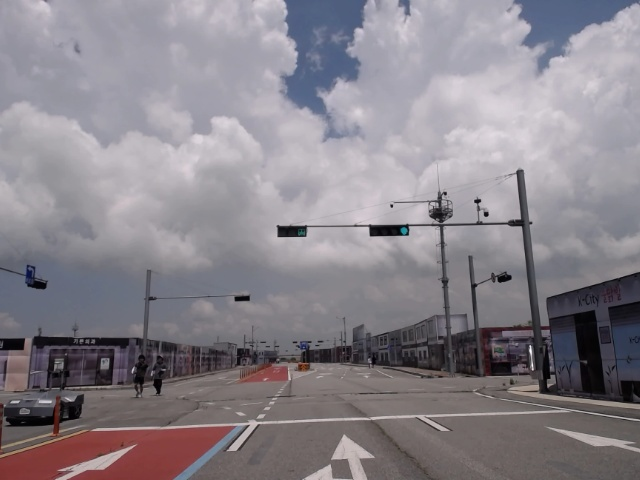straight_green_4: (370, 225, 410, 237)
